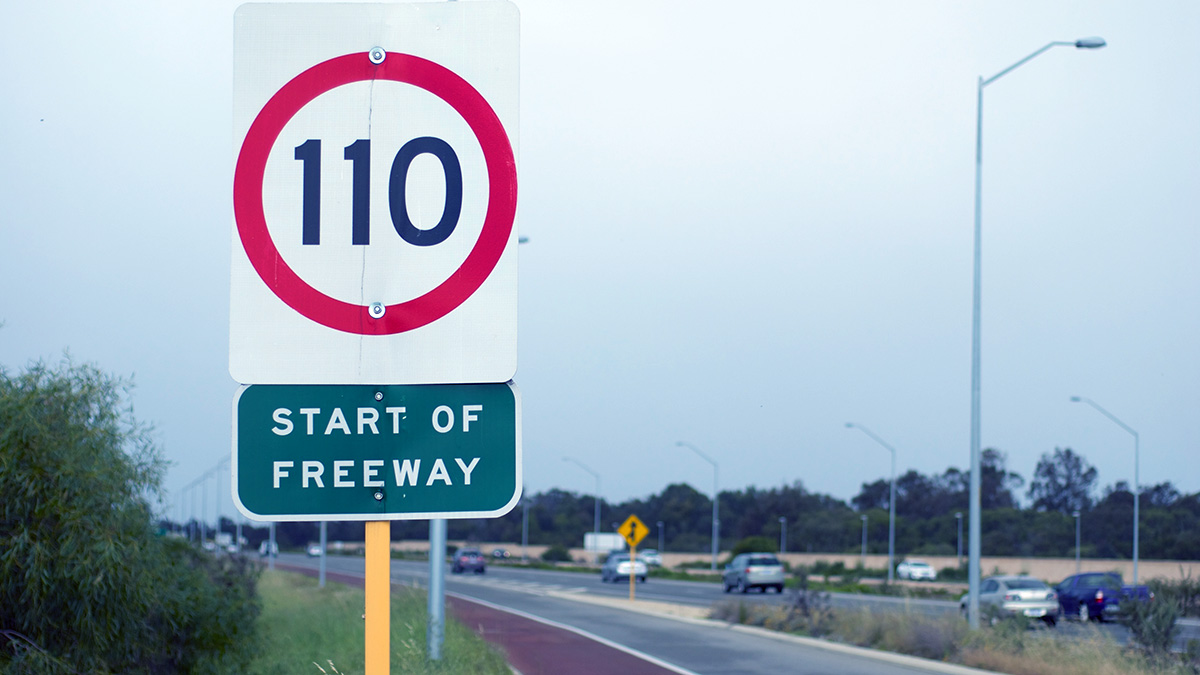Speed_limit_110km: (232, 51, 523, 335)
